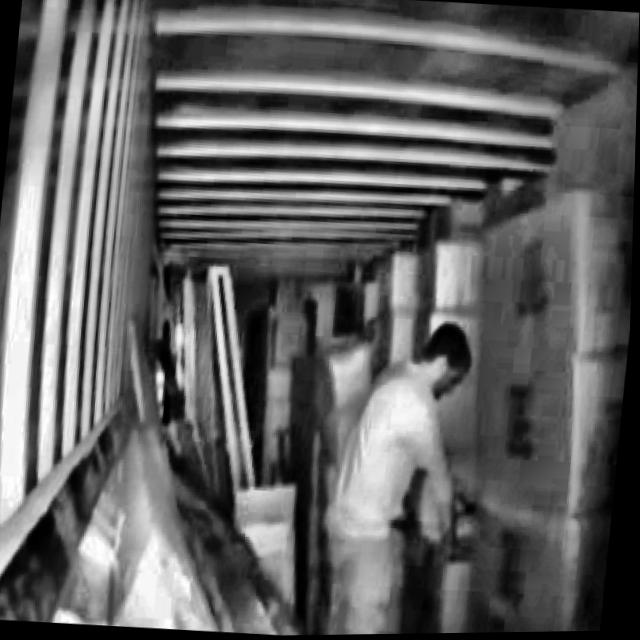burglary: (298, 304, 511, 636)
